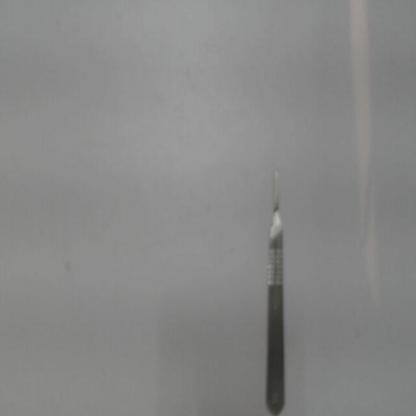No.4 BP Handle: (262, 162, 289, 415)
